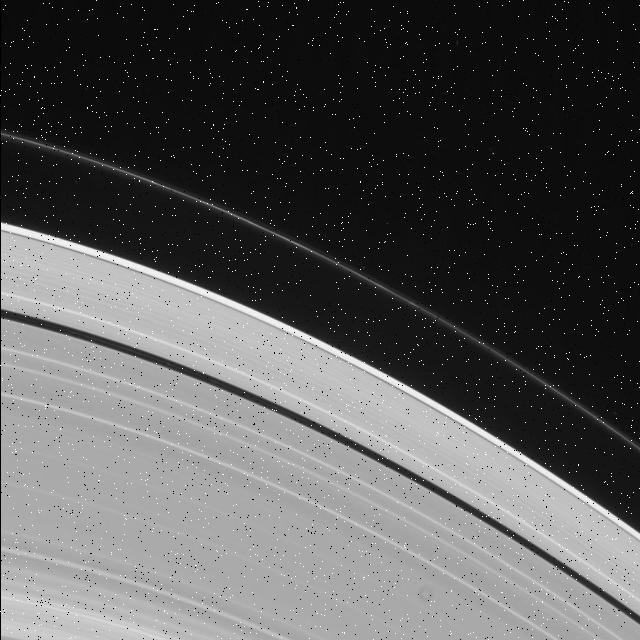Saturn: (0, 126, 640, 640)
